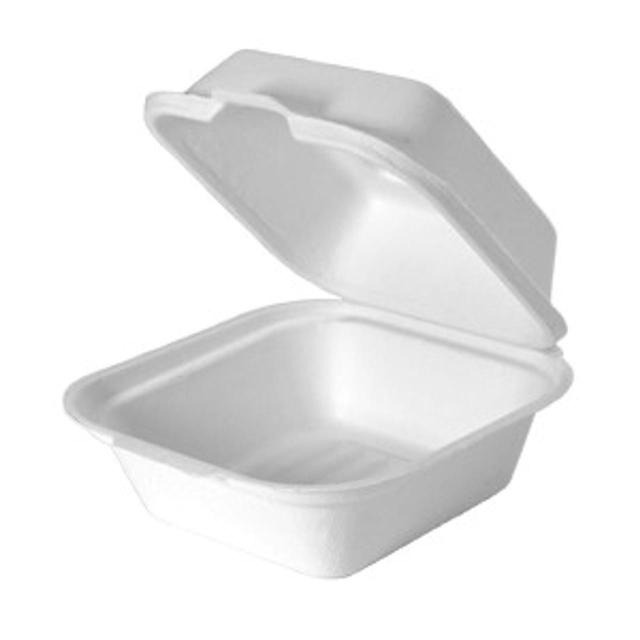styrofoam: (61, 46, 575, 580)
